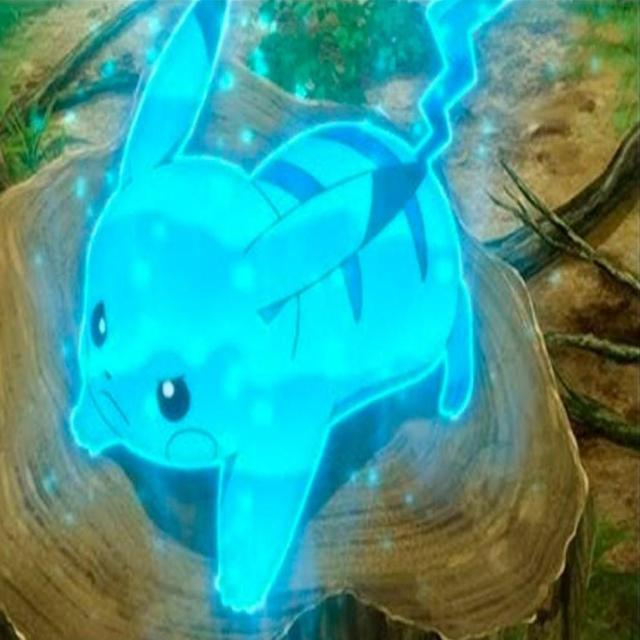pikachu: (70, 0, 514, 614)
